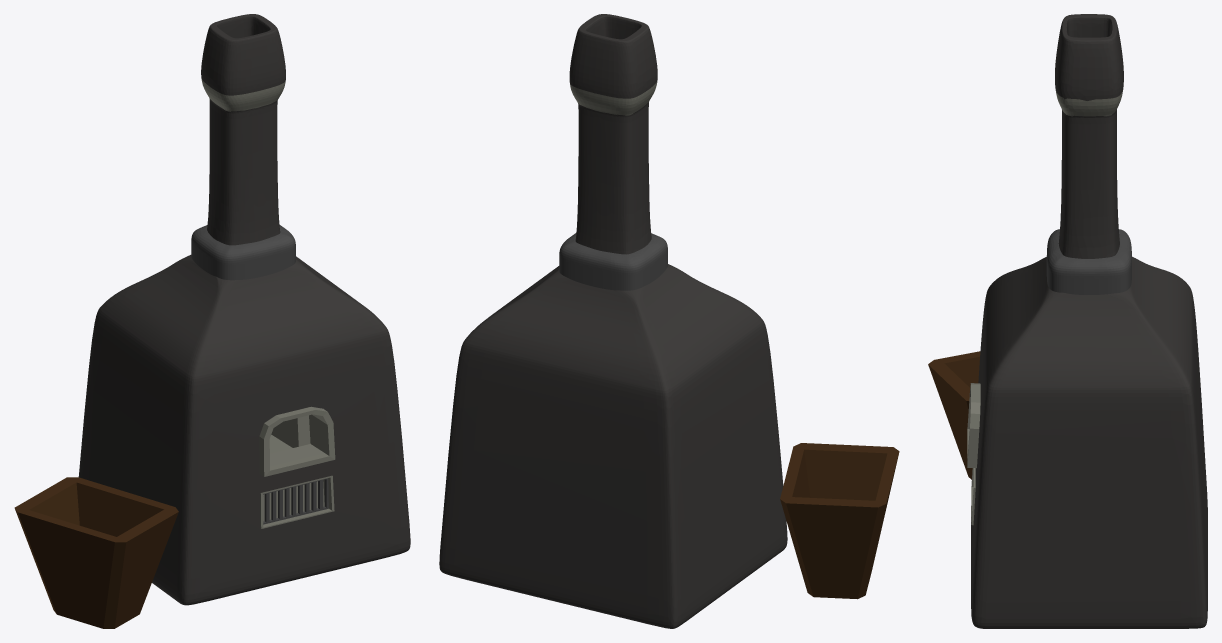
The model's file is forge.fbx.
3 views of the same model, side by side, from view 1: azimuth 30°, elevation 25°; view 2: azimuth 150°, elevation 25°; view 3: azimuth 270°, elevation 25° (orthographic). The views are drawn at different scales.
Visible parts, largest first — view 1: Cube.008, Cube.009, Cube.010, Plane.002; view 2: Cube.008, Cube.009, Cube.010; view 3: Cube.008, Cube.010, Cube.009.
Part boxes in pixels (bbox=[...]): Cube.008: bbox=[78, 14, 410, 605]; Cube.009: bbox=[14, 477, 178, 628]; Cube.010: bbox=[191, 225, 295, 280]; Plane.002: bbox=[263, 478, 328, 524]; Cube.008: bbox=[439, 14, 787, 628]; Cube.009: bbox=[780, 443, 899, 599]; Cube.010: bbox=[559, 233, 667, 290]; Cube.008: bbox=[967, 14, 1207, 628]; Cube.010: bbox=[1046, 229, 1131, 294]; Cube.009: bbox=[928, 351, 980, 479].
Bounding box in the file's own units: 489 × 669 × 311.
